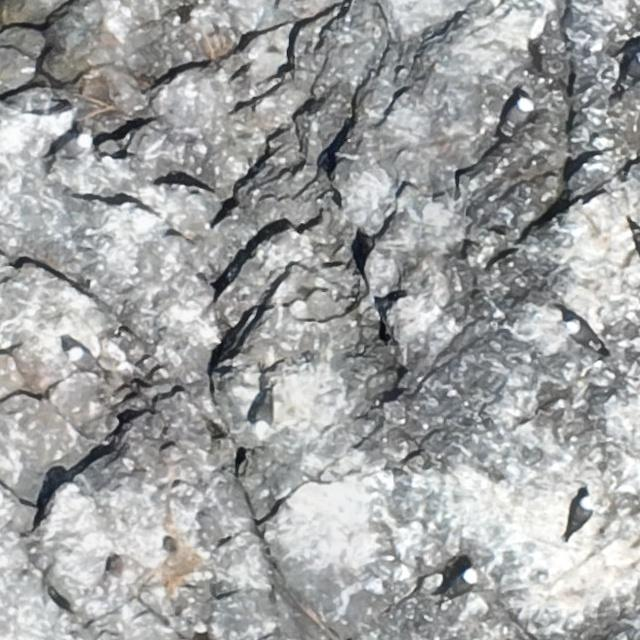umineko: (506, 98, 531, 130), (445, 571, 474, 595), (566, 320, 594, 344), (573, 496, 592, 529), (255, 398, 271, 430), (70, 346, 94, 365)
